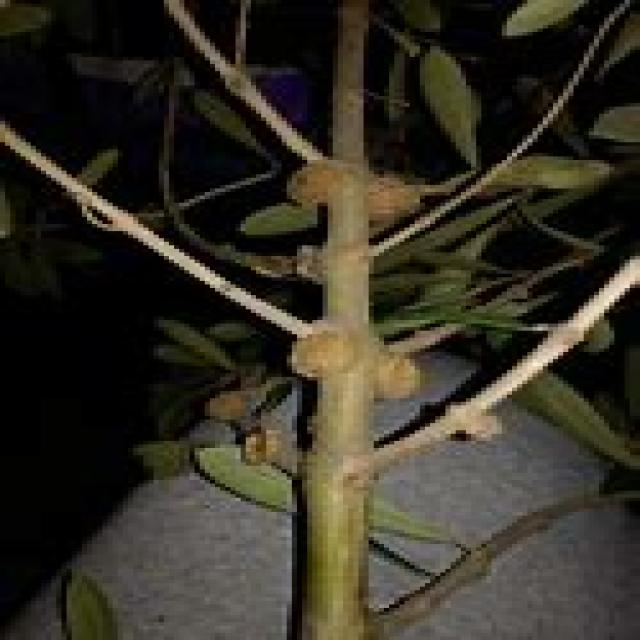Tuberculosis: (287, 320, 353, 377), (363, 174, 425, 223), (374, 345, 420, 398), (287, 162, 343, 203)
